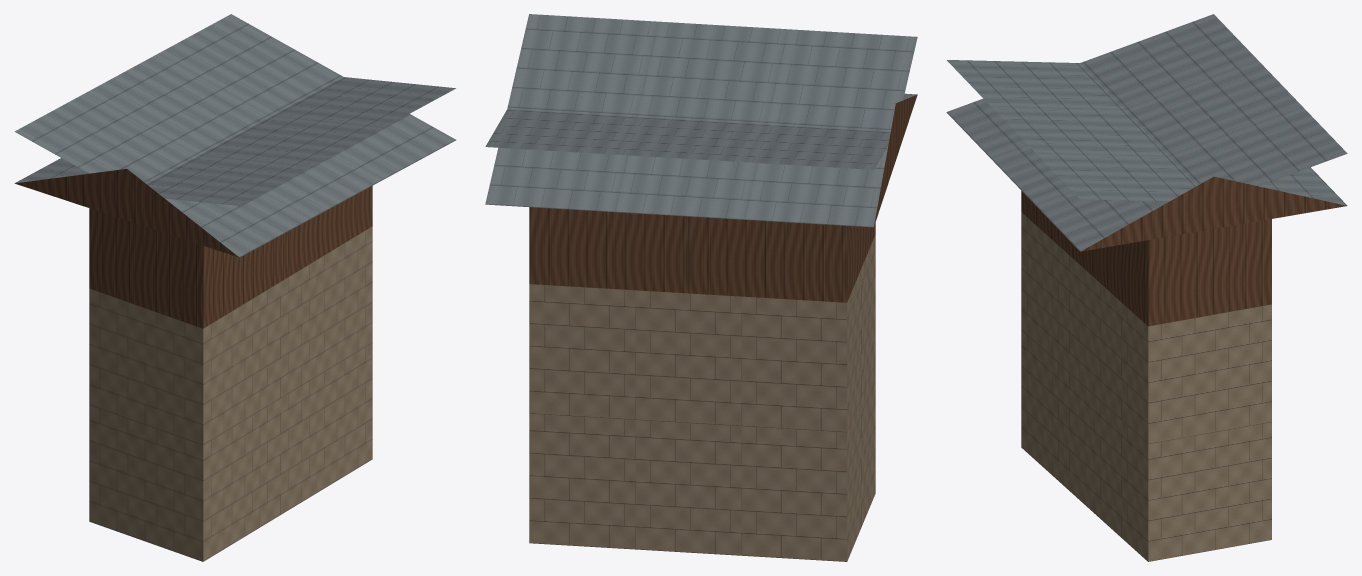
Rendered from bld_c29_-53_546.gltf.
The picture shows the model from 3 angles, left to right: view 1: azimuth 30°, elevation 25°; view 2: azimuth 150°, elevation 25°; view 3: azimuth 270°, elevation 25°; orthographic projection. The views are drawn at different scales.
Parts seen in each view (by area): view 1: bld_c29_-53_546; view 2: bld_c29_-53_546; view 3: bld_c29_-53_546.
Boxes of the visible parts, x1,y1,x2,y2 form: bld_c29_-53_546: (14,14,456,561); bld_c29_-53_546: (485,14,917,561); bld_c29_-53_546: (946,14,1347,561).
Size of the model in its own units: 7.6 by 7.4 by 6.95.
4 materials, 4 textured.
